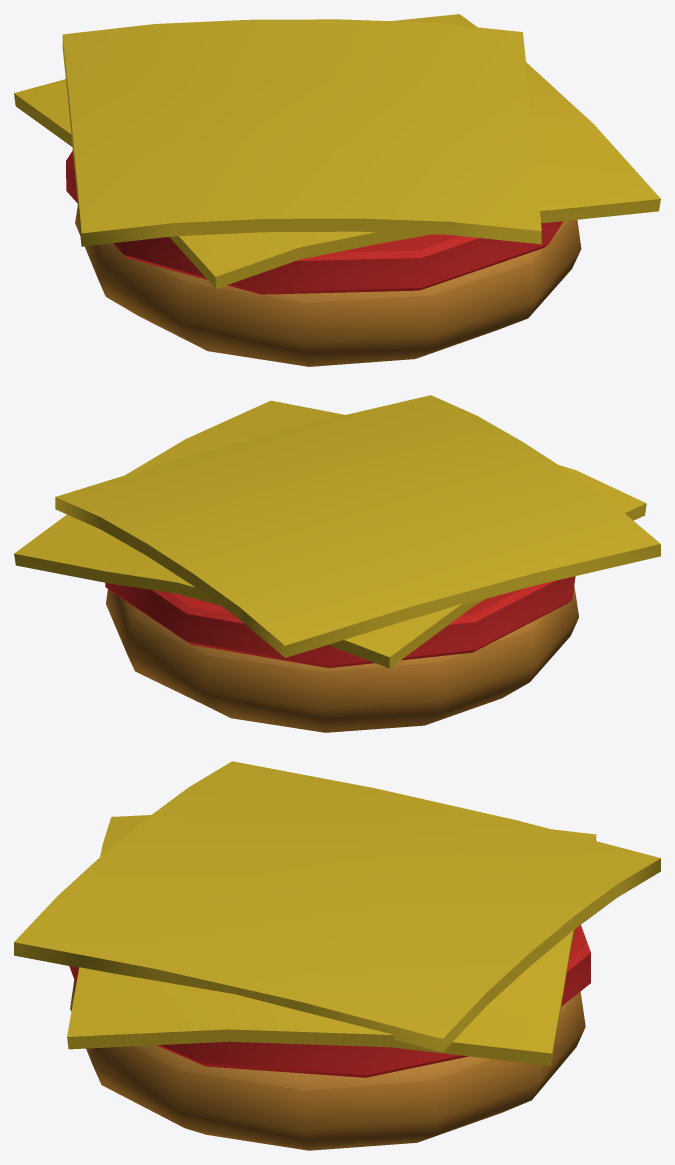
File: ChessBurger_LV2.glb
3 views of the same model, one above another, from view 1: azimuth 30°, elevation 25°; view 2: azimuth 150°, elevation 25°; view 3: azimuth 270°, elevation 25° (orthographic). The views are drawn at different scales.
Parts seen in each view (by area): view 1: ChessBurger_LV2; view 2: ChessBurger_LV2; view 3: ChessBurger_LV2.
Part boxes in pixels (x1,y1,x2,y2): ChessBurger_LV2: [14, 14, 660, 366]; ChessBurger_LV2: [14, 395, 660, 732]; ChessBurger_LV2: [14, 761, 660, 1150].
Size of the model in its own units: 0.267 by 0.0786 by 0.2696.
1 material, 1 textured.
